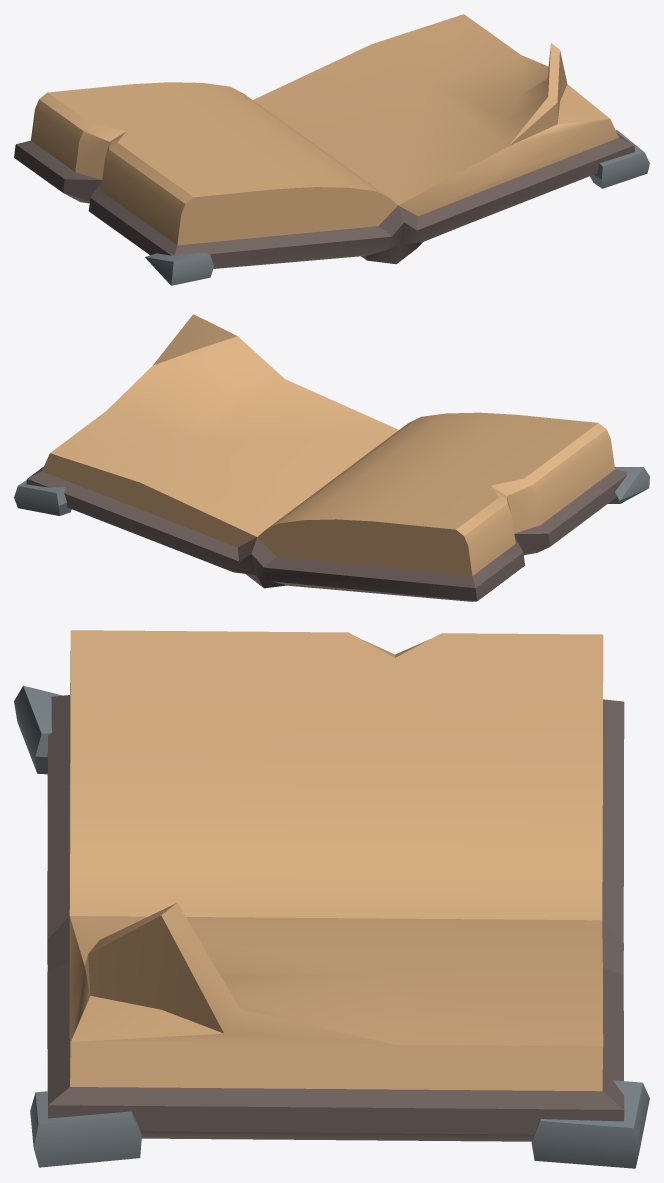
File: spellbook.glb
The picture shows the model from 3 angles, top to bottom: view 1: azimuth 30°, elevation 25°; view 2: azimuth 150°, elevation 25°; view 3: azimuth 270°, elevation 25°; orthographic projection. The views are drawn at different scales.
Visible parts, largest first — view 1: spellbook; view 2: spellbook; view 3: spellbook.
Boxes of the visible parts, box(x1,y1,x2,y2) form: spellbook: box(14, 14, 649, 285); spellbook: box(14, 314, 649, 601); spellbook: box(14, 630, 649, 1168).
Bounding box in the file's own units: 0.2501 × 0.0769 × 0.1568.
